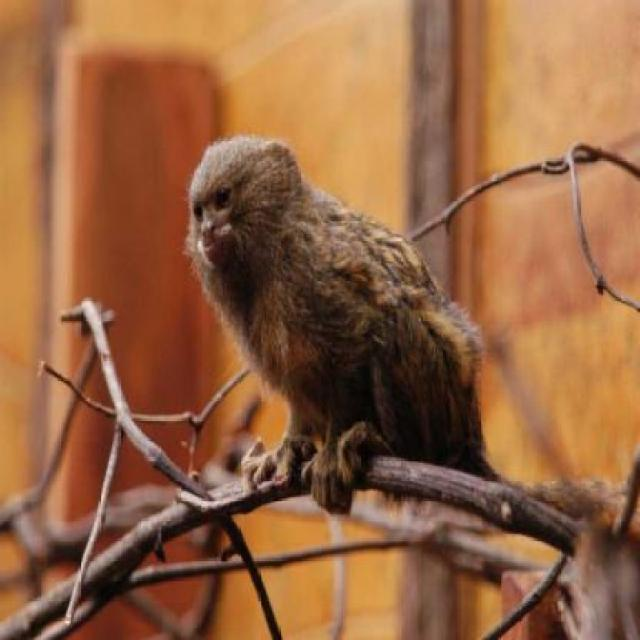Monkey: (128, 102, 522, 535)
